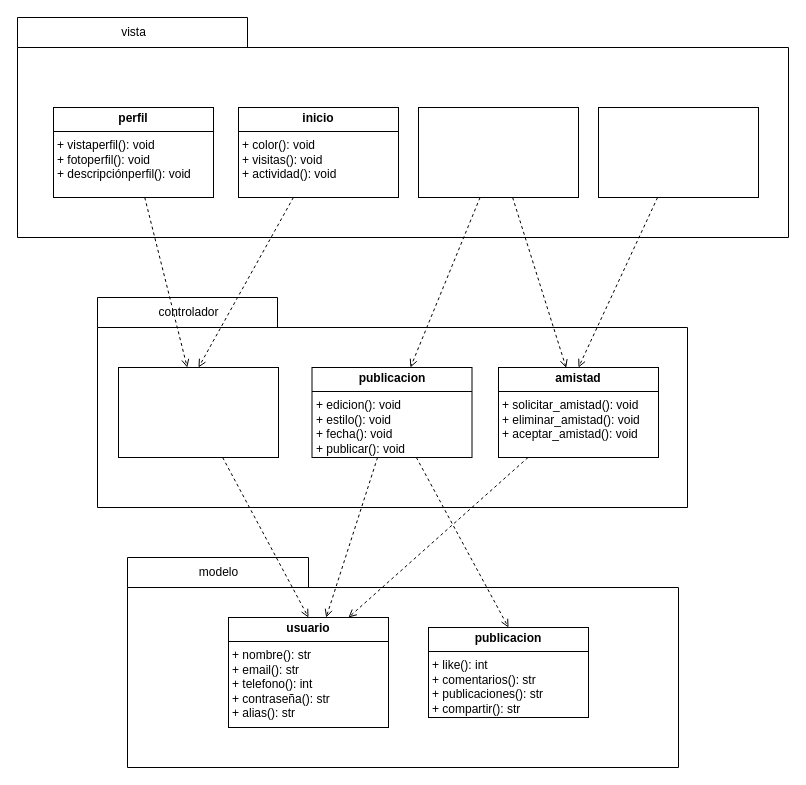
Some shapes in this 806 by 785 pixel diagram are drawn without their labels. The shapes that lost their labels are listed below. From the top down, each one's centre as x and y in pixels, then its label:
At point 498,152: "explorador + buscador(): void + diseño(): void".
At point 678,152: "notificacion + color(): void + diseño(): void".
At point 198,412: "usuario + registrar(): void + editar(): void + cerrar_sesion(): void".
